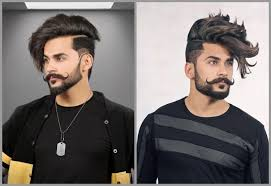b.y: (200, 76, 235, 100)
